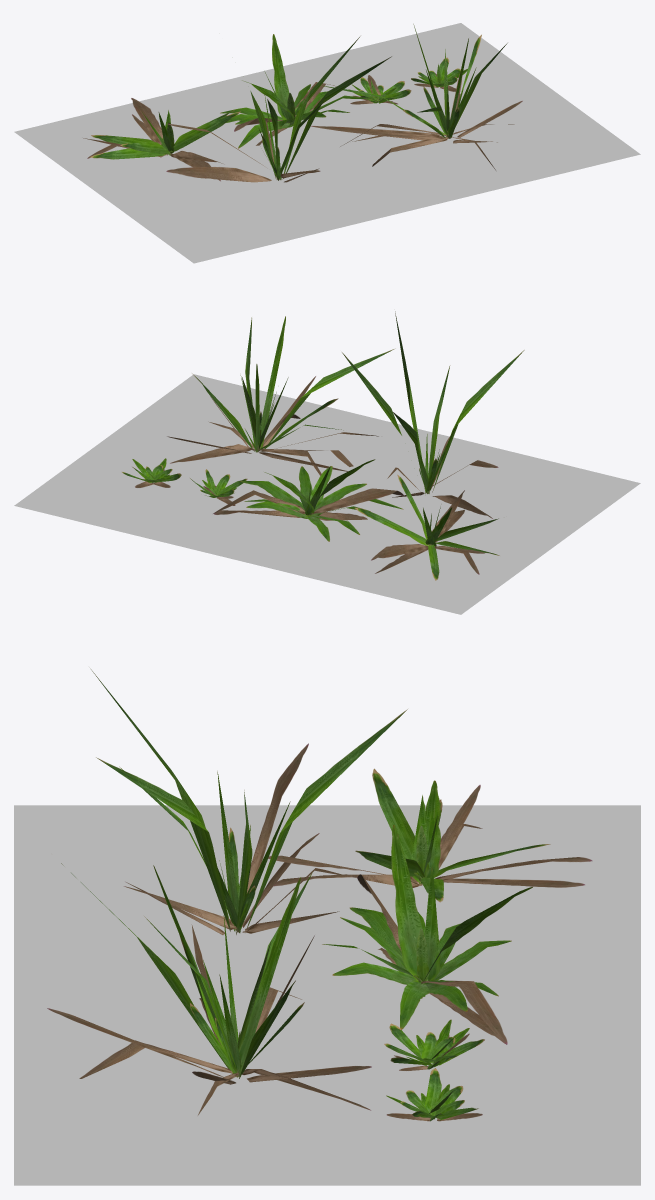
The model's file is grama-alta.glb.
3 renders of one model, top to bottom at view 1: azimuth 30°, elevation 25°; view 2: azimuth 150°, elevation 25°; view 3: azimuth 270°, elevation 25°, orthographic. The views are drawn at different scales.
Parts seen in each view (by area): view 1: grama-alta; view 2: grama-alta; view 3: grama-alta.
Part boxes in pixels (box(x1,y1,x2,y2)): grama-alta: box(14, 23, 640, 263); grama-alta: box(14, 311, 640, 614); grama-alta: box(14, 669, 640, 1185).
Bounding box in the file's own units: 1.31 × 0.4516 × 0.9119.
2 materials, 1 textured.
